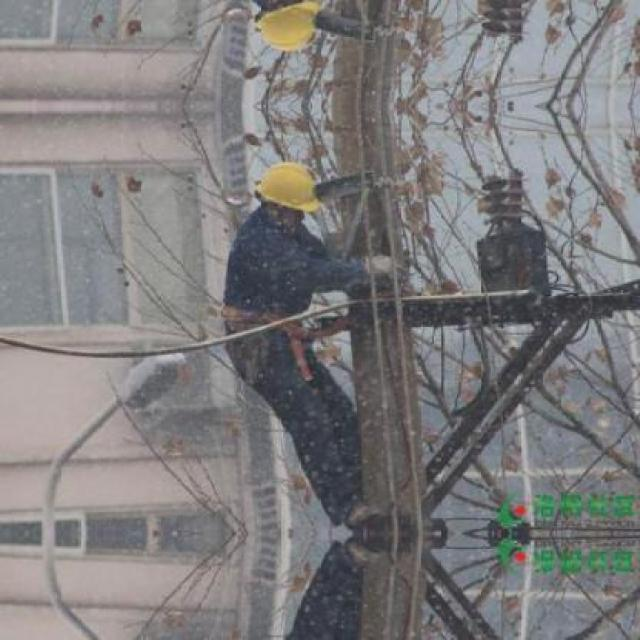helmet: (252, 157, 328, 216)
